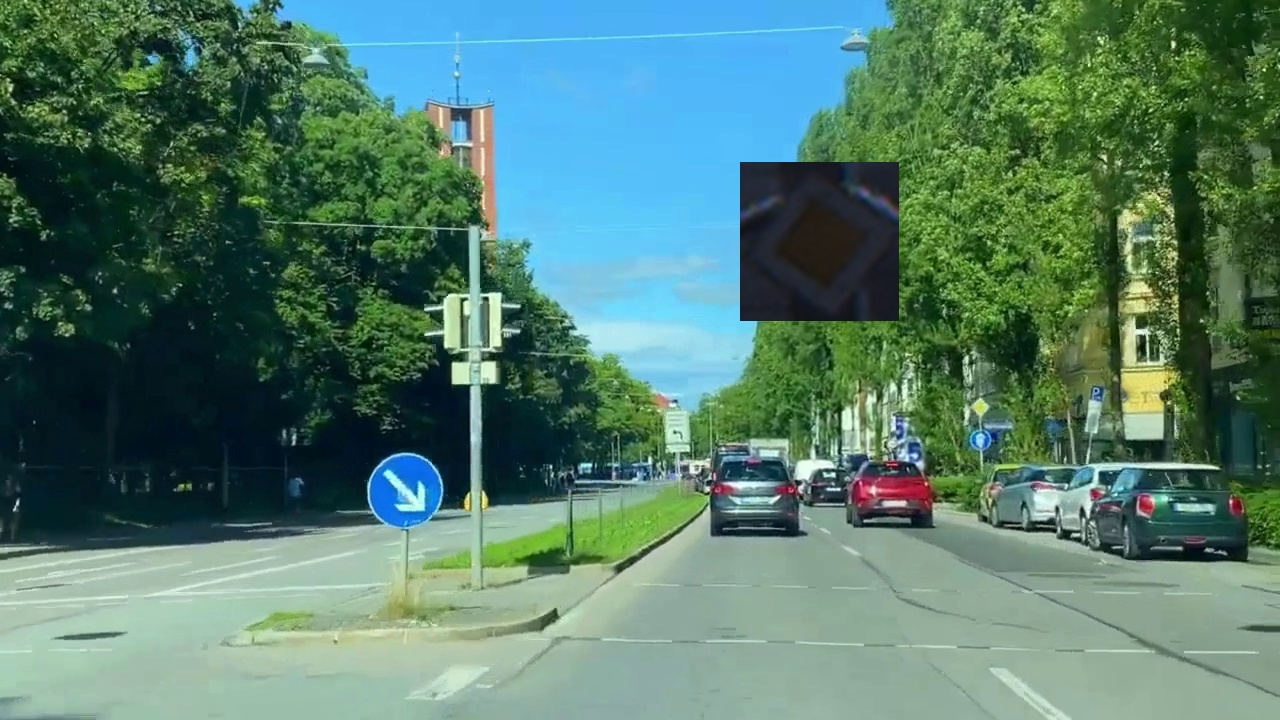Priority road: (740, 162, 899, 321)
